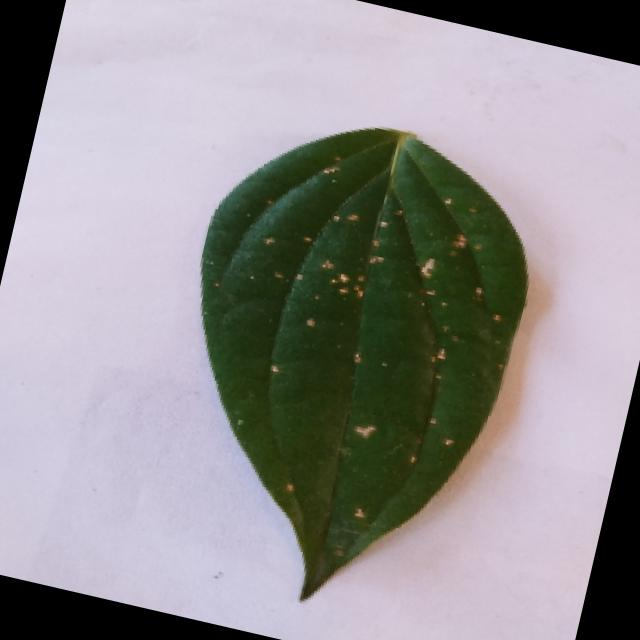pollu-disease: (128, 85, 570, 630)
